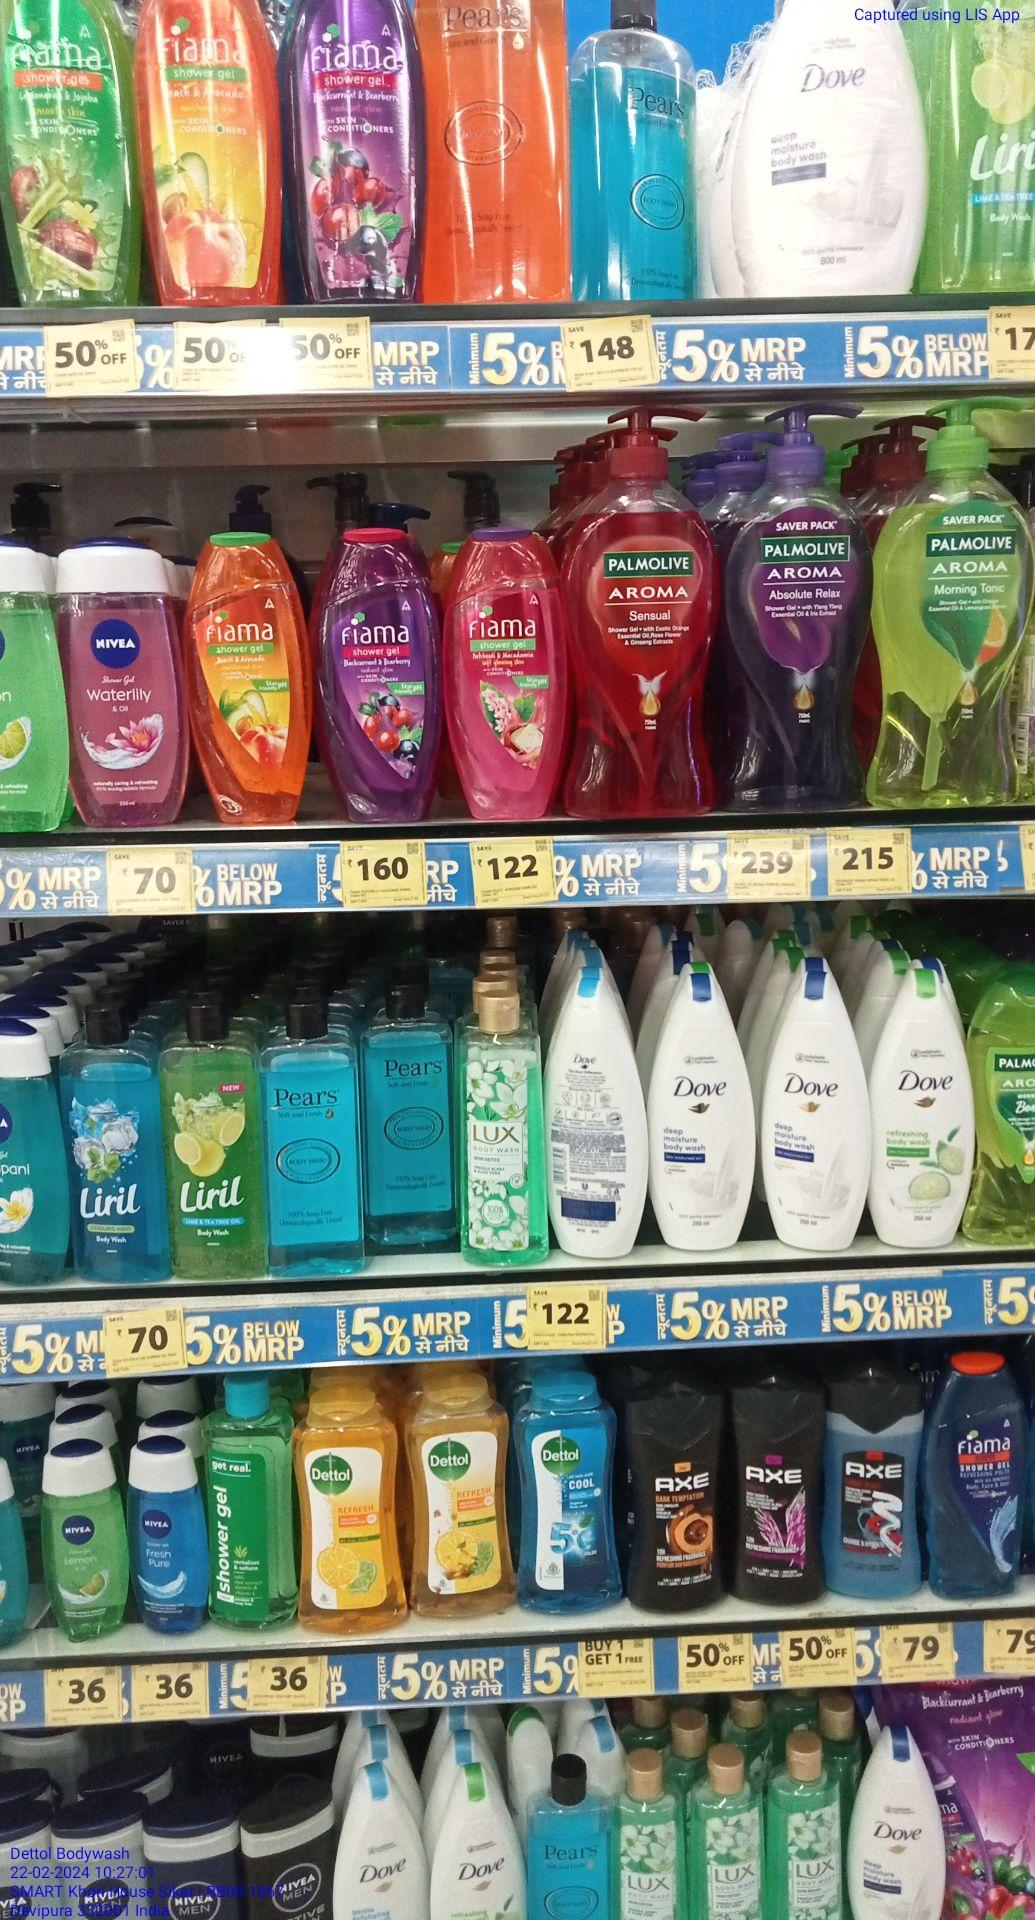Dettol_Bodywash_Cool: (520, 1371, 623, 1616)
Dettol_Bodywash_Refresh: (296, 1389, 403, 1630), (408, 1387, 506, 1616)
Dove_Deep_Moisture_Body_Wash_250ML: (653, 981, 757, 1254), (767, 966, 867, 1251), (851, 1723, 948, 1920)
Dove_Gentle_Exfoliating_Body_Wash_250ML: (333, 1756, 423, 1920)
Dove_Refreshing_Body_Wash_250ML: (872, 966, 967, 1249), (433, 1762, 529, 1920)
Fiama_Shower_Gel_Patchouli_and_Macadamia_250ML: (449, 515, 575, 814)
Fiama_Shower_Gel_Peach_and_Avocado_250ML: (200, 520, 296, 826)
Liril_Cooling_Mint_Body_Wash_250ML: (60, 1009, 171, 1282)
Liril_Lime_and_Tea_Tree_Oil_Body_Wash_250ML: (176, 996, 264, 1272)
Lux_Body_Wash_Skin_Detox_Freesia_Scent_and_Alove_Vera_245ML: (464, 982, 544, 1269), (769, 1737, 848, 1920), (696, 1748, 762, 1920), (627, 1754, 684, 1920)
Nivea_Shower_Gel_Waterlily_and_Oil_250ML: (62, 538, 184, 829)
Pears_Pure_Glycerin_and_Mint_Extracts_Body_Wash_250ML: (565, 0, 698, 302), (274, 1004, 361, 1284), (368, 1000, 454, 1241), (538, 1771, 613, 1920)
